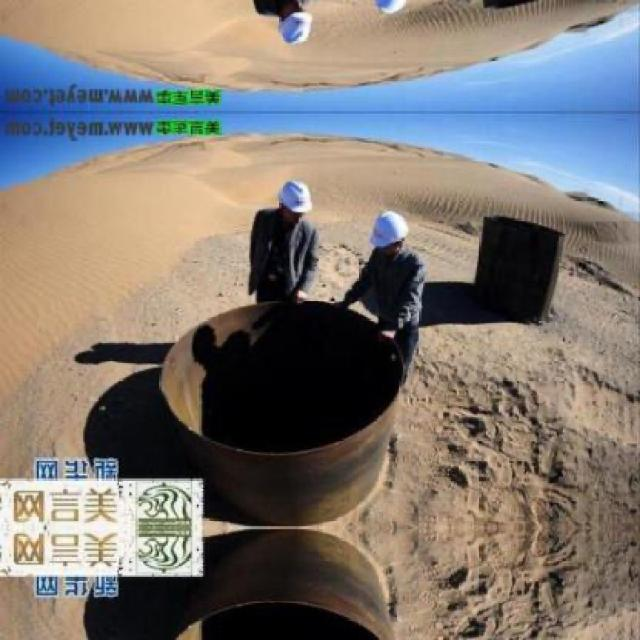con casco: (362, 205, 432, 272), (258, 158, 312, 234)
